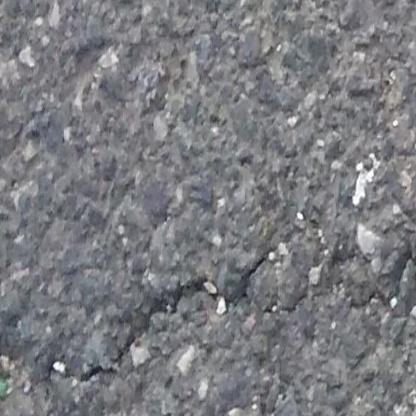Cracks: (0, 208, 416, 386)
